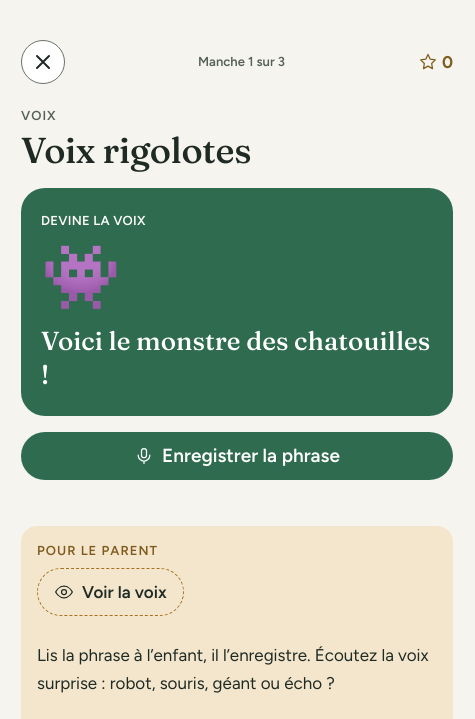
Test case: sans micro › micro refusé : on peut jouer en faisant les voix soi-même
Step 1. Click the button "Enregistrer la phrase" → [237, 456], box [21, 432, 453, 480]
(page scrolled)
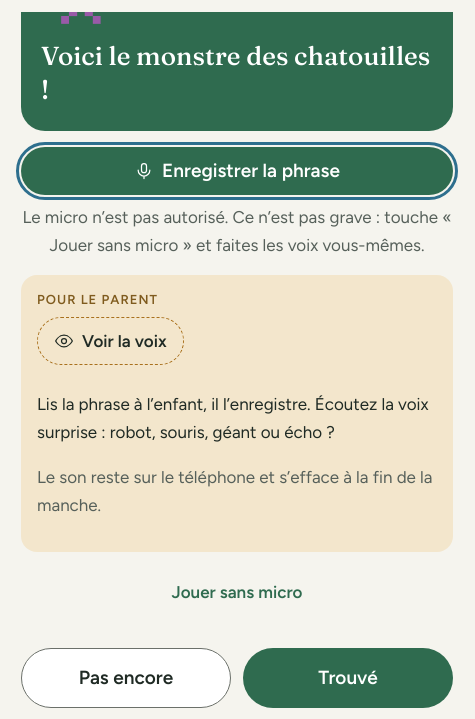
Expected: the text "Le micro n’est pas autorisé" is shown, [22, 207, 452, 255]
Step 2. Click the button "Jouer sans micro" → [237, 592], box [21, 568, 453, 616]
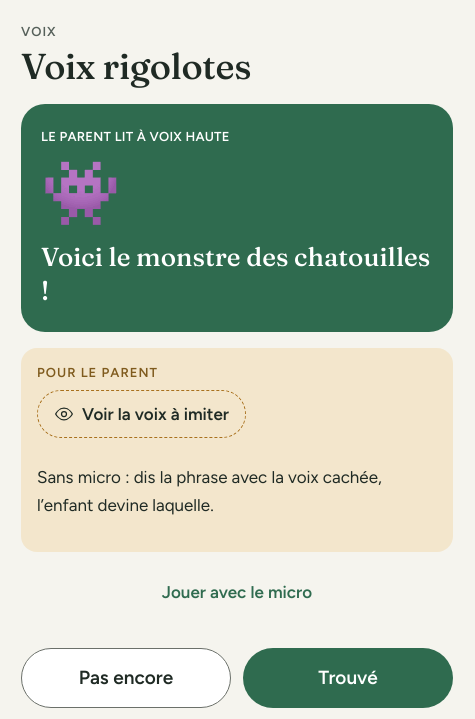
Expected: the element "Pour le parent" shows "Sans micro", [37, 467, 382, 515]
Step 3. Click the button "Voir la voix à imiter" → [142, 414], box [37, 390, 246, 438]
(page scrolled)
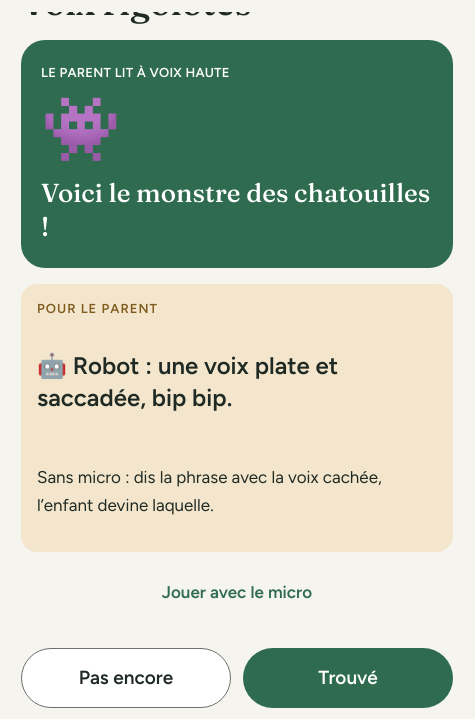
Expected: the element "Pour le parent" shows "Pour le parent 🤖 Robot : une voix plate et saccadée, bip bip. Sans micro : dis", [73, 351, 140, 380]
Note: Le choix tient pour la partie.
Step 4. Click the button "Trouvé" → [348, 678], box [243, 648, 453, 708]
(page scrolled)
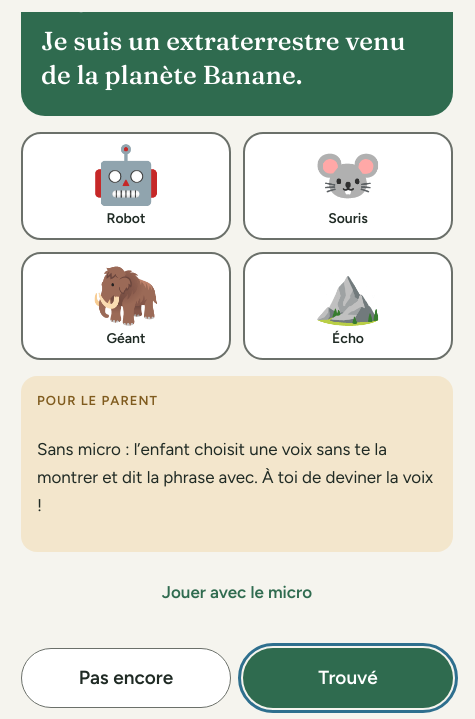
Expected: the button "Enregistrer la phrase" is not shown
Expected: the button "Jouer avec le micro" is shown, [21, 568, 453, 616]
Expected: the element named "Choisis une voix à imiter" is shown, [21, 132, 453, 360]
